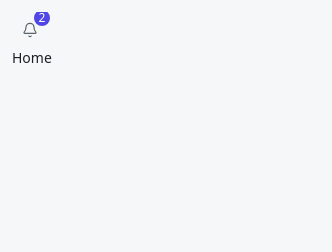
marks a notification read and opens its link
This screenshot has width=332, height=252.
Press Enter in the button named "Notifications", box [12, 12, 48, 48]
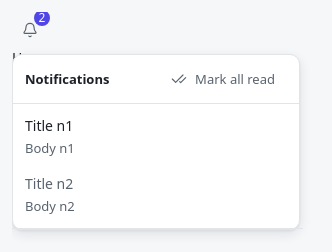
Click the menu item "Title n1 Body n1": (50, 136) [24, 115, 76, 157]
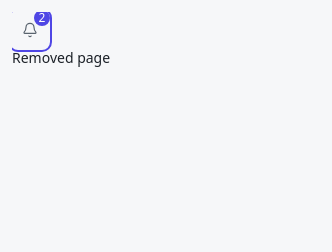
Expected: the text "Removed page" is shown, [12, 48, 110, 67]
